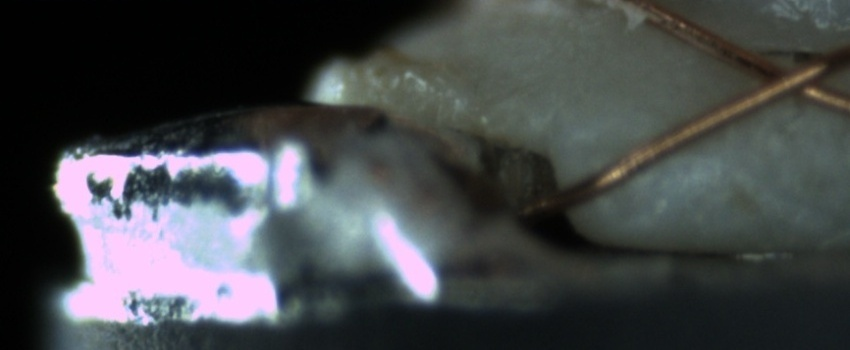CL: (719, 44, 845, 110)
